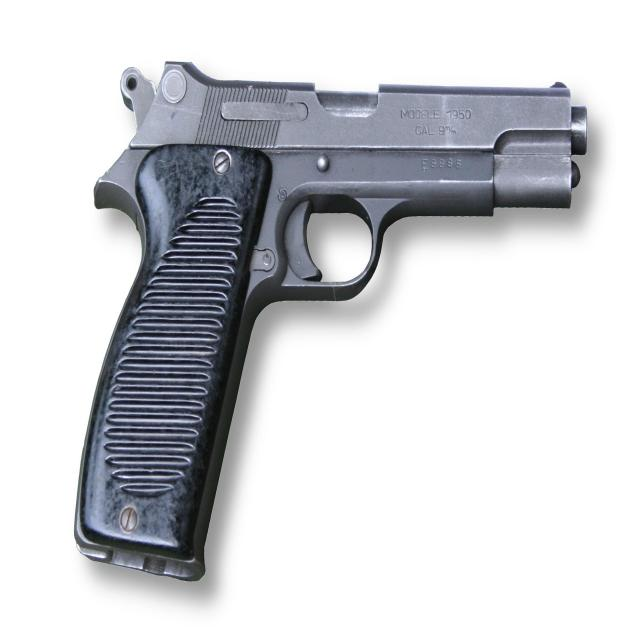pistol: (62, 43, 588, 580)
